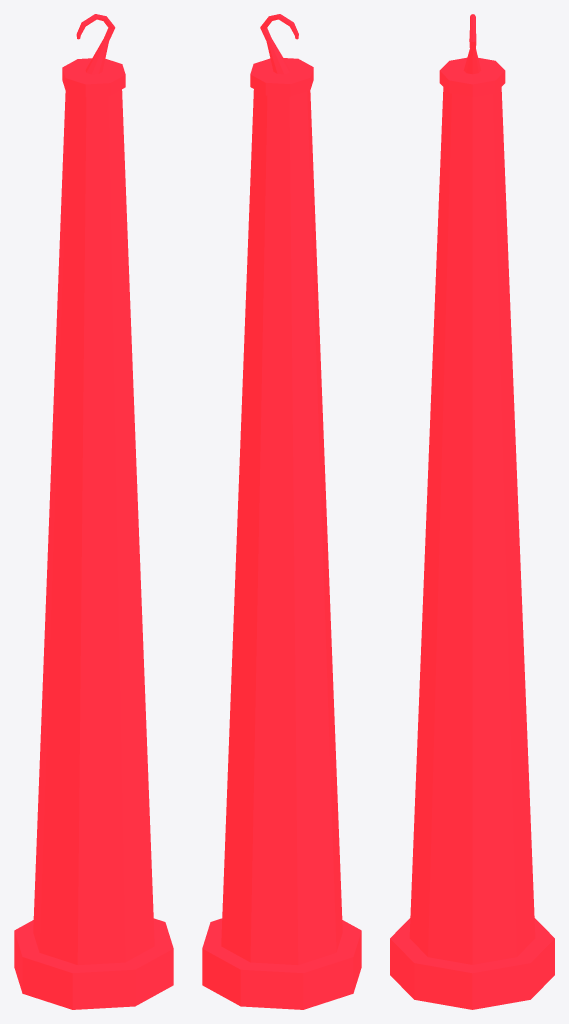
Rendered from LightStickRed.fbx.
3 views of the same model, side by side, from view 1: azimuth 30°, elevation 25°; view 2: azimuth 150°, elevation 25°; view 3: azimuth 270°, elevation 25° (orthographic).
Parts seen in each view (by area): view 1: LightStickRed; view 2: LightStickRed; view 3: LightStickRed.
Part boxes in pixels (x1,y1,x2,y2): LightStickRed: [14, 14, 173, 1009]; LightStickRed: [202, 14, 361, 1009]; LightStickRed: [390, 14, 554, 1009].
Bounding box in the file's own units: 5.24 × 33.71 × 5.24.
